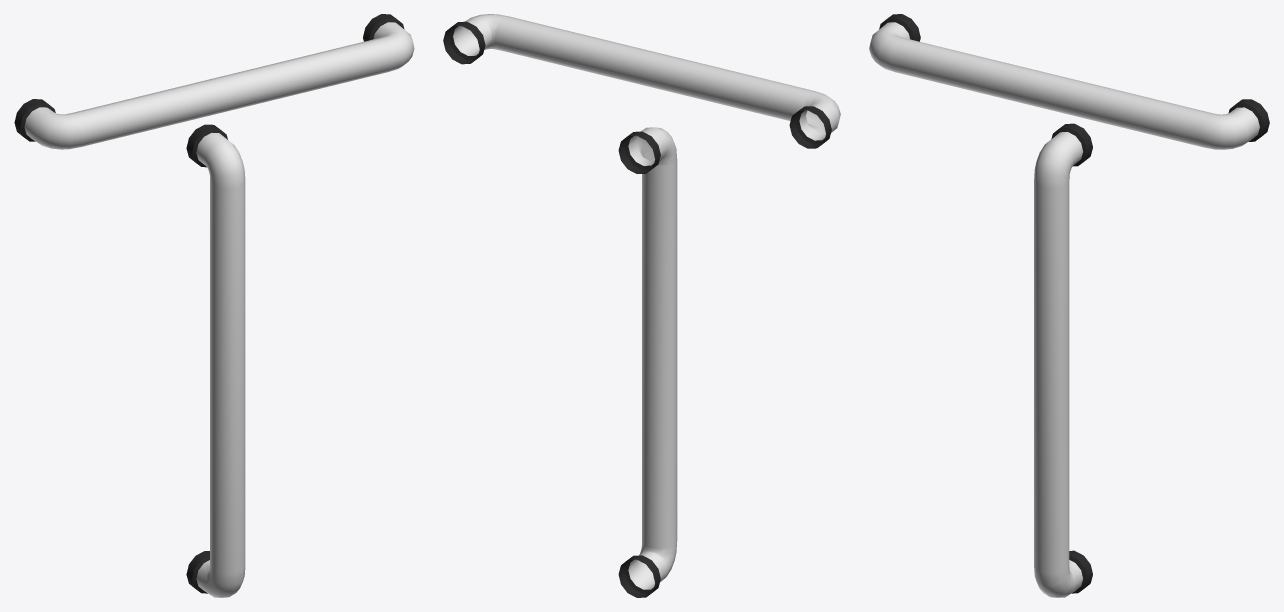
The model's file is LettersNeon01_T.FBX.
3 views of the same model, side by side, from view 1: azimuth 30°, elevation 25°; view 2: azimuth 150°, elevation 25°; view 3: azimuth 330°, elevation 25° (orthographic).
Visible parts, largest first — view 1: LettersNeon01_T; view 2: LettersNeon01_T; view 3: LettersNeon01_T.
Part boxes in pixels (x1=…): LettersNeon01_T: x1=14, y1=14, x2=414, y2=597; LettersNeon01_T: x1=443, y1=14, x2=840, y2=597; LettersNeon01_T: x1=869, y1=14, x2=1269, y2=597.
Size of what is drawn, in the model's own units: 0.3787 by 0.5001 by 0.054.
